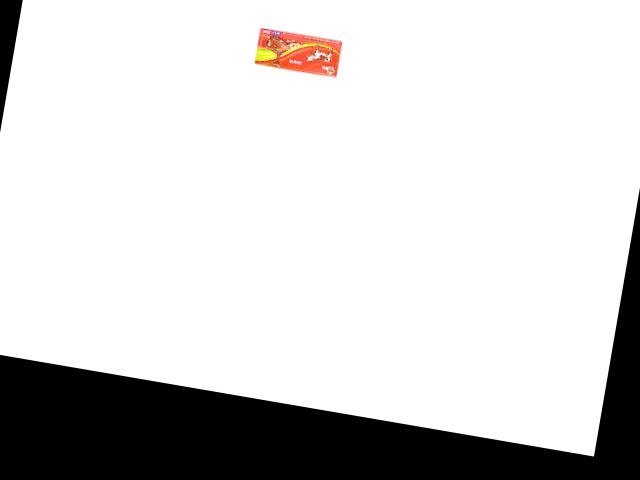chocolate: (252, 19, 349, 81)
